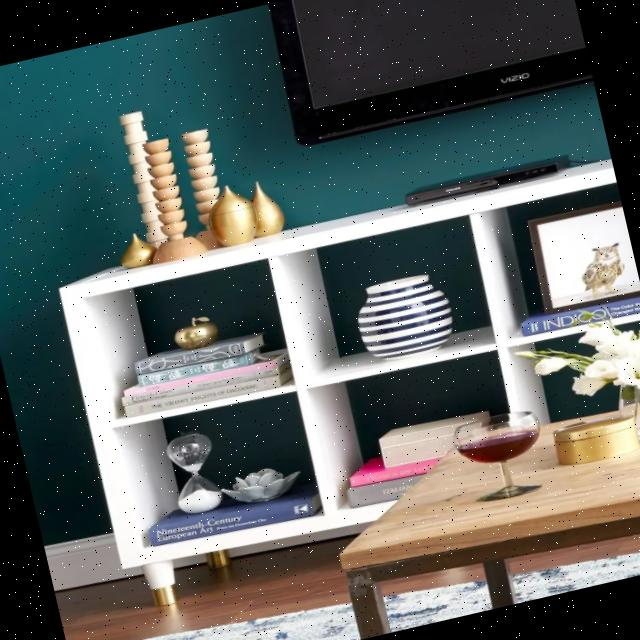Shelf: (41, 140, 640, 622)
Table: (285, 386, 640, 640)
